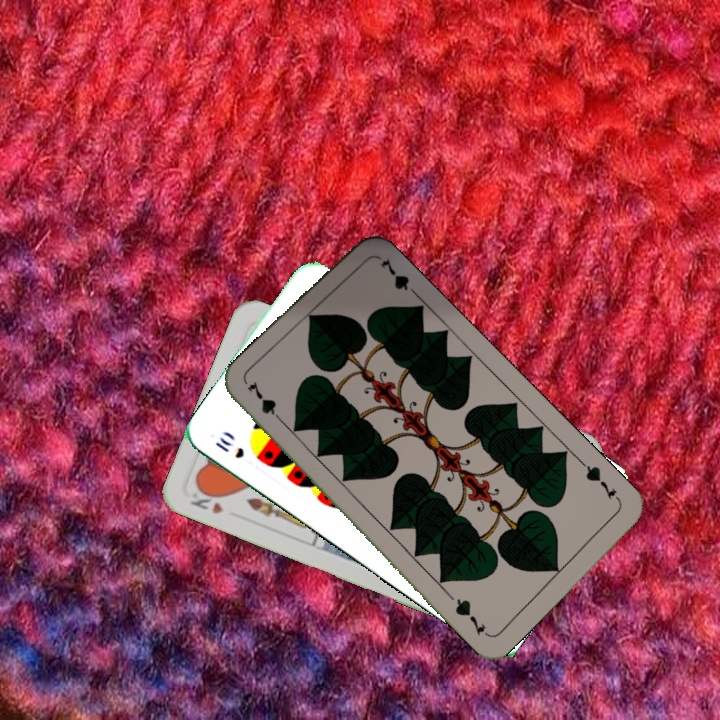G7: (243, 379, 289, 429), (578, 458, 624, 505)
HK: (186, 483, 227, 517)
S10: (211, 433, 247, 461)
